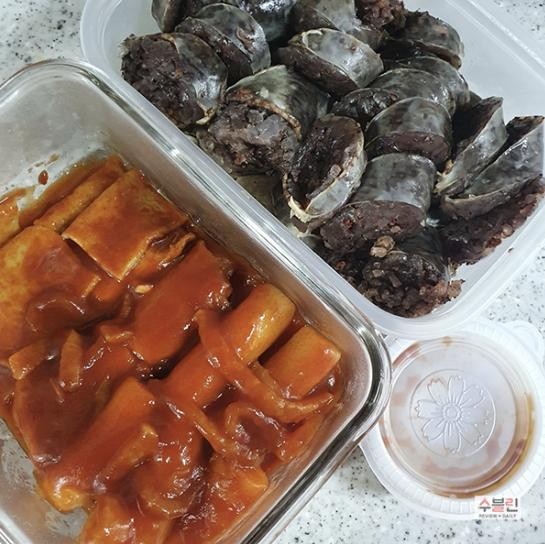Lunch Box: (0, 61, 390, 543), (80, 0, 544, 337), (360, 318, 544, 520)
